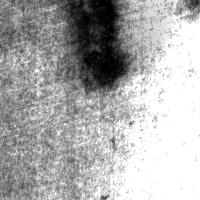patches: (25, 0, 181, 86), (72, 1, 126, 91), (92, 10, 154, 72)
